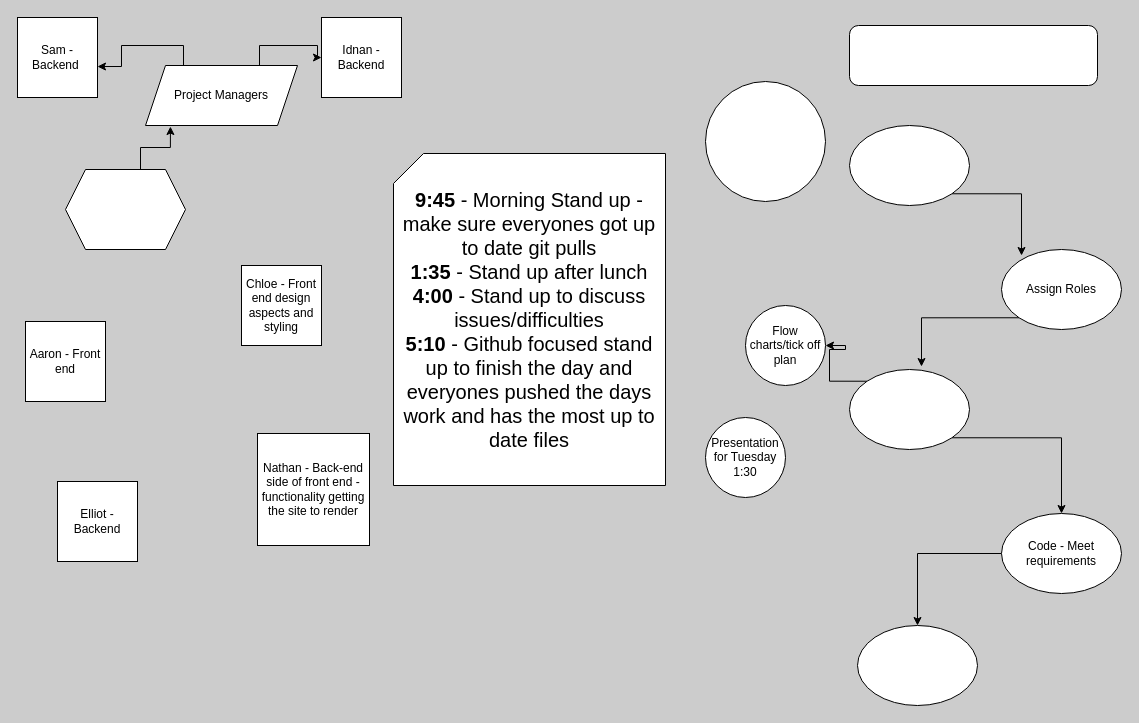
The diagram is 1139 pixels wide and 723 high, and some of its shapes have lost their labels. Each missing label, with the centre of its shape:
Apply Design: (917,665)
Cookie Club -Enthusiats and recipes: (765,141)
Decide Theme: (909,165)
Design: (909,409)
Roles: (125,209)
Timeline: (973,55)
